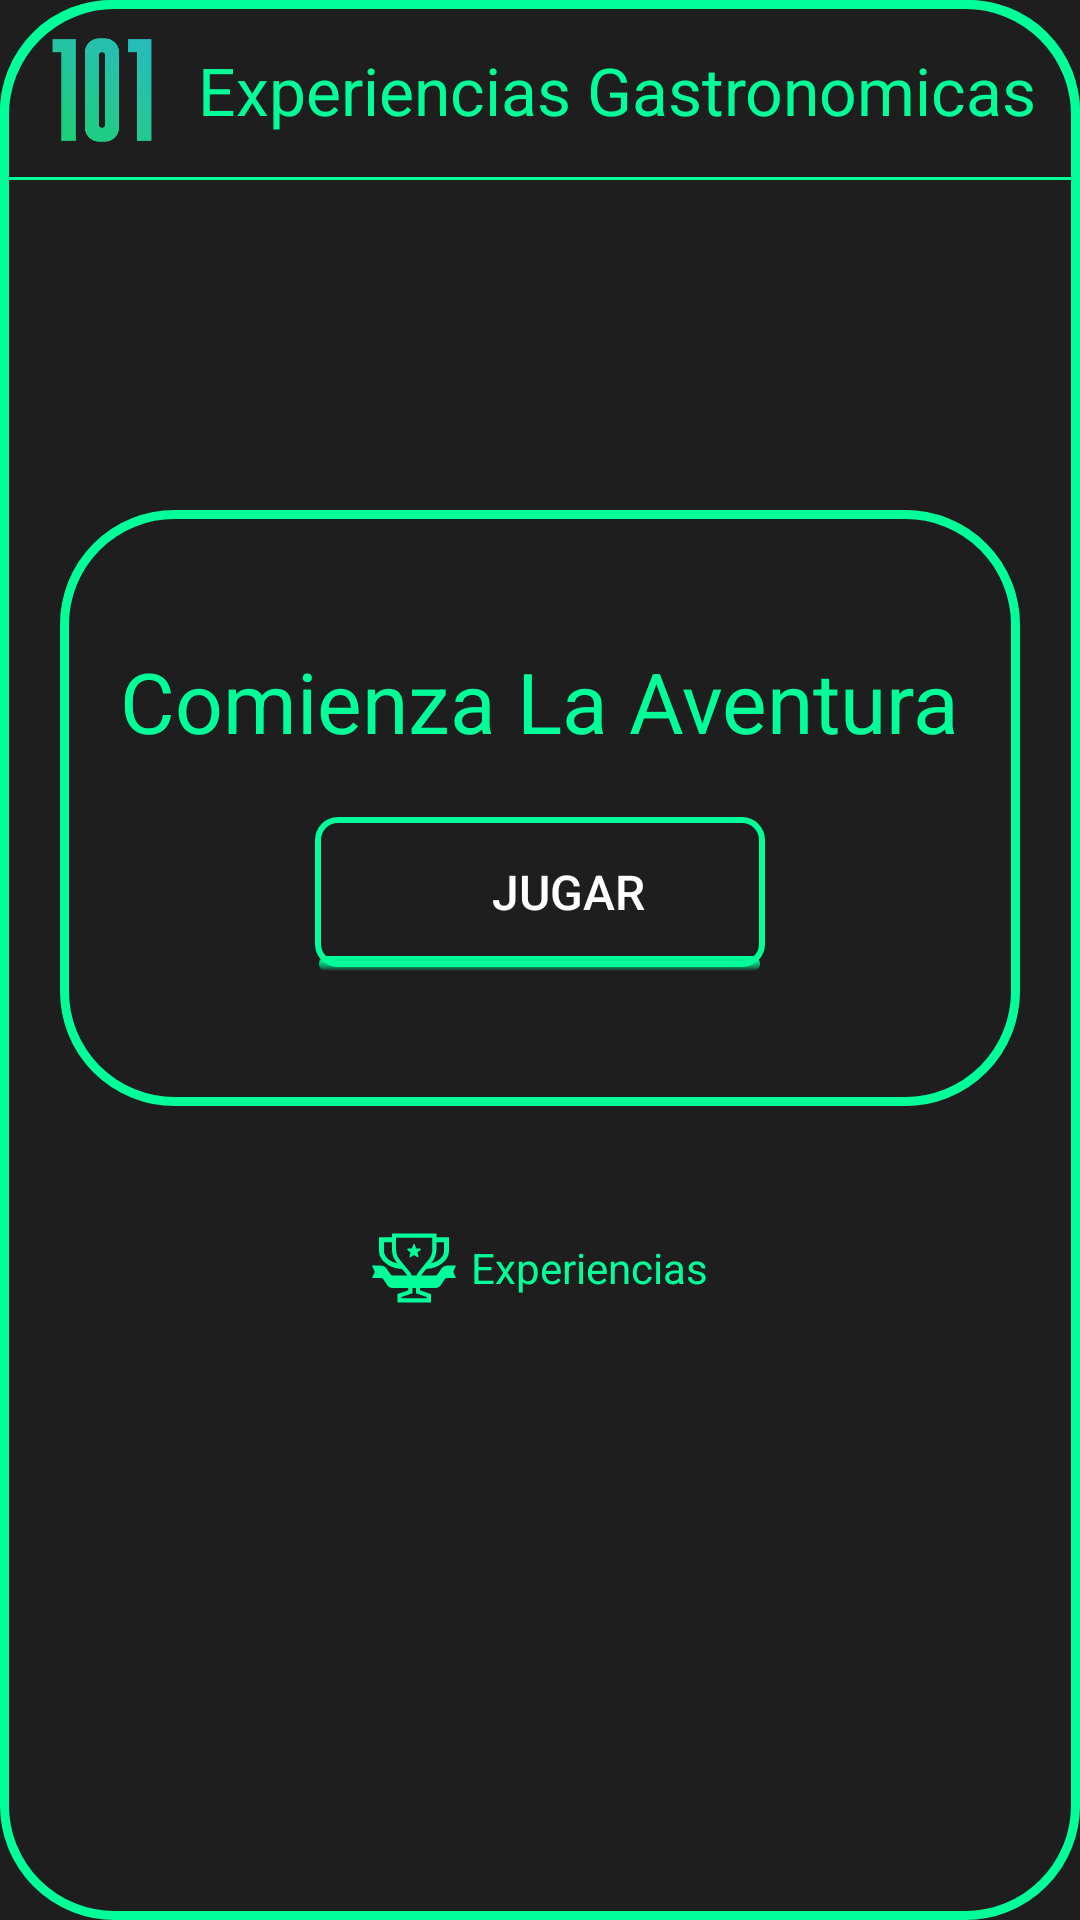

Icon bounding boxes for this 1080*1920 phone screenshot, format bbox=[x1, y1, x2, y2]:
trophy nav bar: bbox=[372, 1233, 456, 1303]
